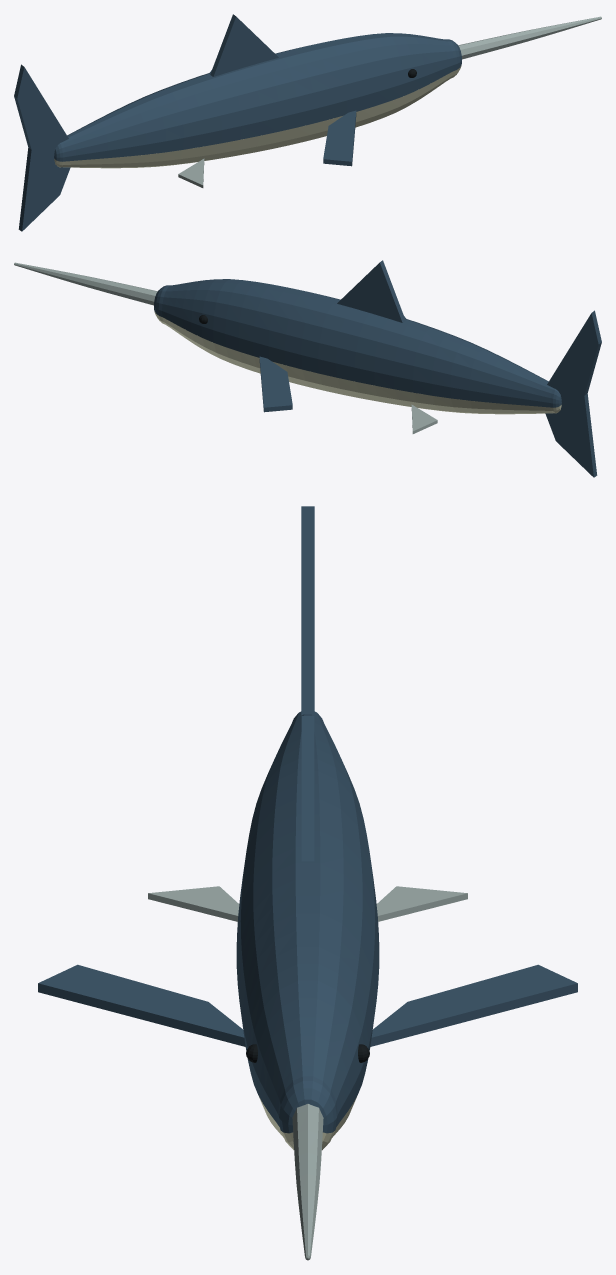
The model's file is swordfish.dae.
The picture shows the model from 3 angles, top to bottom: view 1: azimuth 30°, elevation 25°; view 2: azimuth 150°, elevation 25°; view 3: azimuth 270°, elevation 25°; orthographic projection. The views are drawn at different scales.
Visible parts, largest first — view 1: part3-node, part2-node, part0-node; view 2: part3-node, part2-node, part0-node; view 3: part3-node, part0-node.
Part boxes in pixels (x1,y1,x2,y2): part3-node: (14,14,461,231); part2-node: (54,65,461,168); part0-node: (178,16,601,187); part3-node: (154,260,601,477); part2-node: (154,311,561,414); part0-node: (14,262,437,433); part3-node: (38,506,577,1133); part0-node: (148,886,467,1260).
Size of the model in its own units: 3.1 by 1.24 by 0.831.
